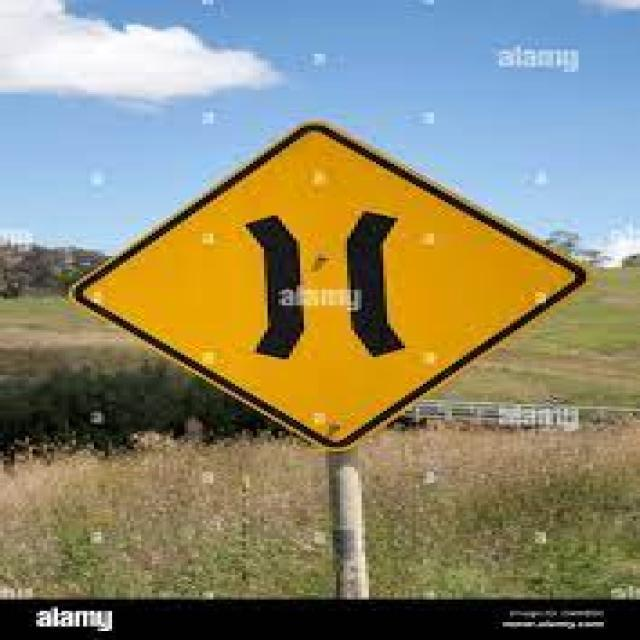narrow bridge ahead: (69, 119, 586, 455)
